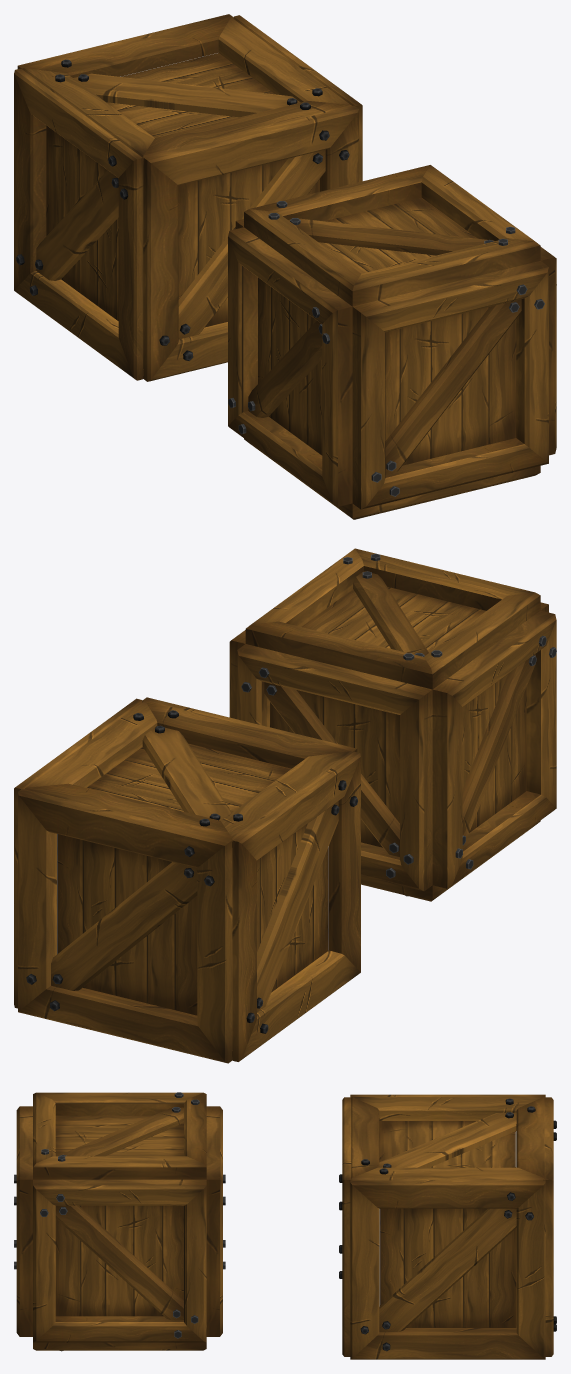
Rendered from crates.glb.
3 views of the same model, one above another, from view 1: azimuth 30°, elevation 25°; view 2: azimuth 150°, elevation 25°; view 3: azimuth 270°, elevation 25° (orthographic). The views are drawn at different scales.
Visible parts, largest first — view 1: Crate02.001, Crate01.001; view 2: Crate01.001, Crate02.001; view 3: Crate01.001, Crate02.001.
Part boxes in pixels (box(x1,y1,x2,y2)): Crate02.001: box(228, 165, 556, 519); Crate01.001: box(14, 14, 362, 381); Crate01.001: box(14, 697, 360, 1063); Crate02.001: box(229, 548, 556, 901); Crate01.001: box(339, 1094, 556, 1359); Crate02.001: box(14, 1092, 225, 1351).
Size of the model in its own units: 0.8235 by 0.7993 by 2.05.
2 materials, 2 textured.
